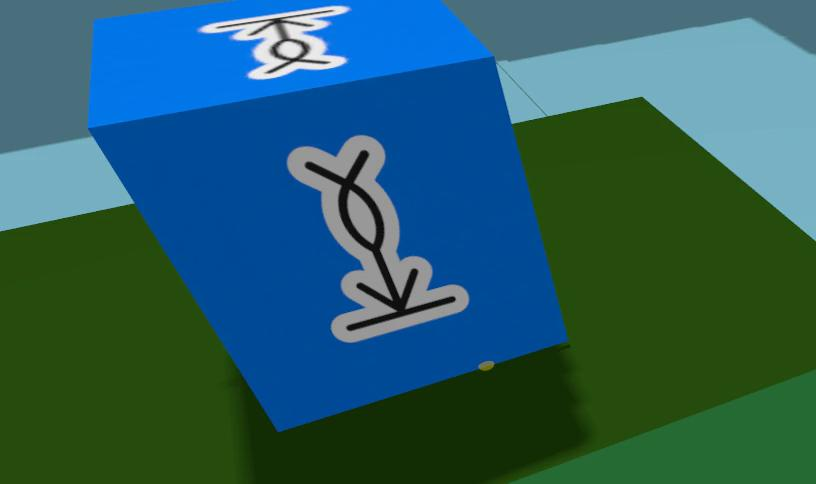KFS_REAL: (87, 0, 565, 429), (286, 135, 467, 342), (200, 6, 348, 79)
